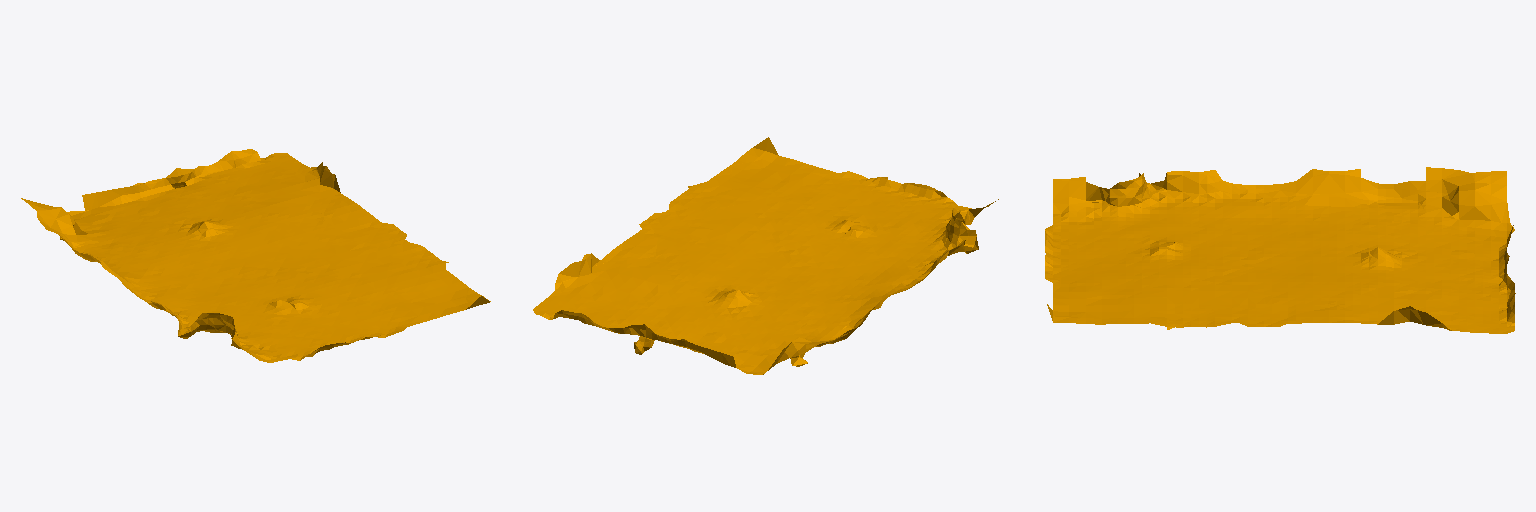
The robot description file, URDF, robot "table_top":
<?xml version="1.0"?>
<robot name="table_top">
  <link name="table_top">
    <visual>
      <origin xyz="0.0 0.0 0.0"/>
      <geometry>
        <!-- <mesh filename="ycb/025_mug/textured.obj" scale="1. 1. 1."/> -->
        <!-- <mesh filename="ycb/rigid_body/red_mug.obj" scale="1. 1. 1."/> -->
        <mesh filename="ycb/table_top/table_top.obj" scale="1. 1. 1."/>
      </geometry>
    </visual>
    <collision>
      <origin xyz="0.0 0.0 0.0"/>
      <geometry>
        <!-- <mesh filename="ycb/025_mug/mug_collision.obj" scale="1. 1. 1."/>-->
        <!-- <mesh filename="ycb/rigid_body/red_mug.obj" scale="1. 1. 1."/> -->
        <mesh filename="ycb/table_top/table_top.obj" scale="1. 1. 1."/>        
      </geometry>
    </collision>
    <inertial>
      <mass value="0.102"/>
      <inertia ixx="0.0001" ixy="0.0" ixz="0.0" iyy="0.0001" iyz="0.0" izz="0.0001"/>
    </inertial>
  </link>
</robot>

--- Render facts (derived) ---
The picture shows the robot from 3 angles, left to right: view 1: azimuth 30°, elevation 25°; view 2: azimuth 150°, elevation 25°; view 3: azimuth 270°, elevation 25°; orthographic projection.
Robot: table_top — 1 links, 0 joints (none); root link table_top; default pose: every joint at zero.
Links seen in each view (by area): view 1: table_top; view 2: table_top; view 3: table_top.
Boxes of the visible links, x1,y1,x2,y2 form: table_top: [21, 149, 490, 362]; table_top: [533, 137, 998, 374]; table_top: [1045, 167, 1515, 333].
Size in the robot's own frame: 0.7462 by 0.998 by 0.1031 metres.
1 mesh visuals loaded from 1 distinct referenced files (1 OBJ).